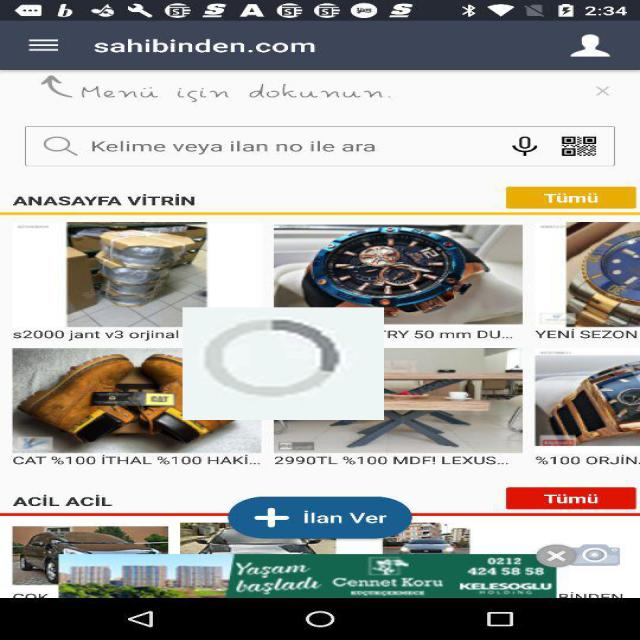misdirection: (183, 307, 384, 420)
